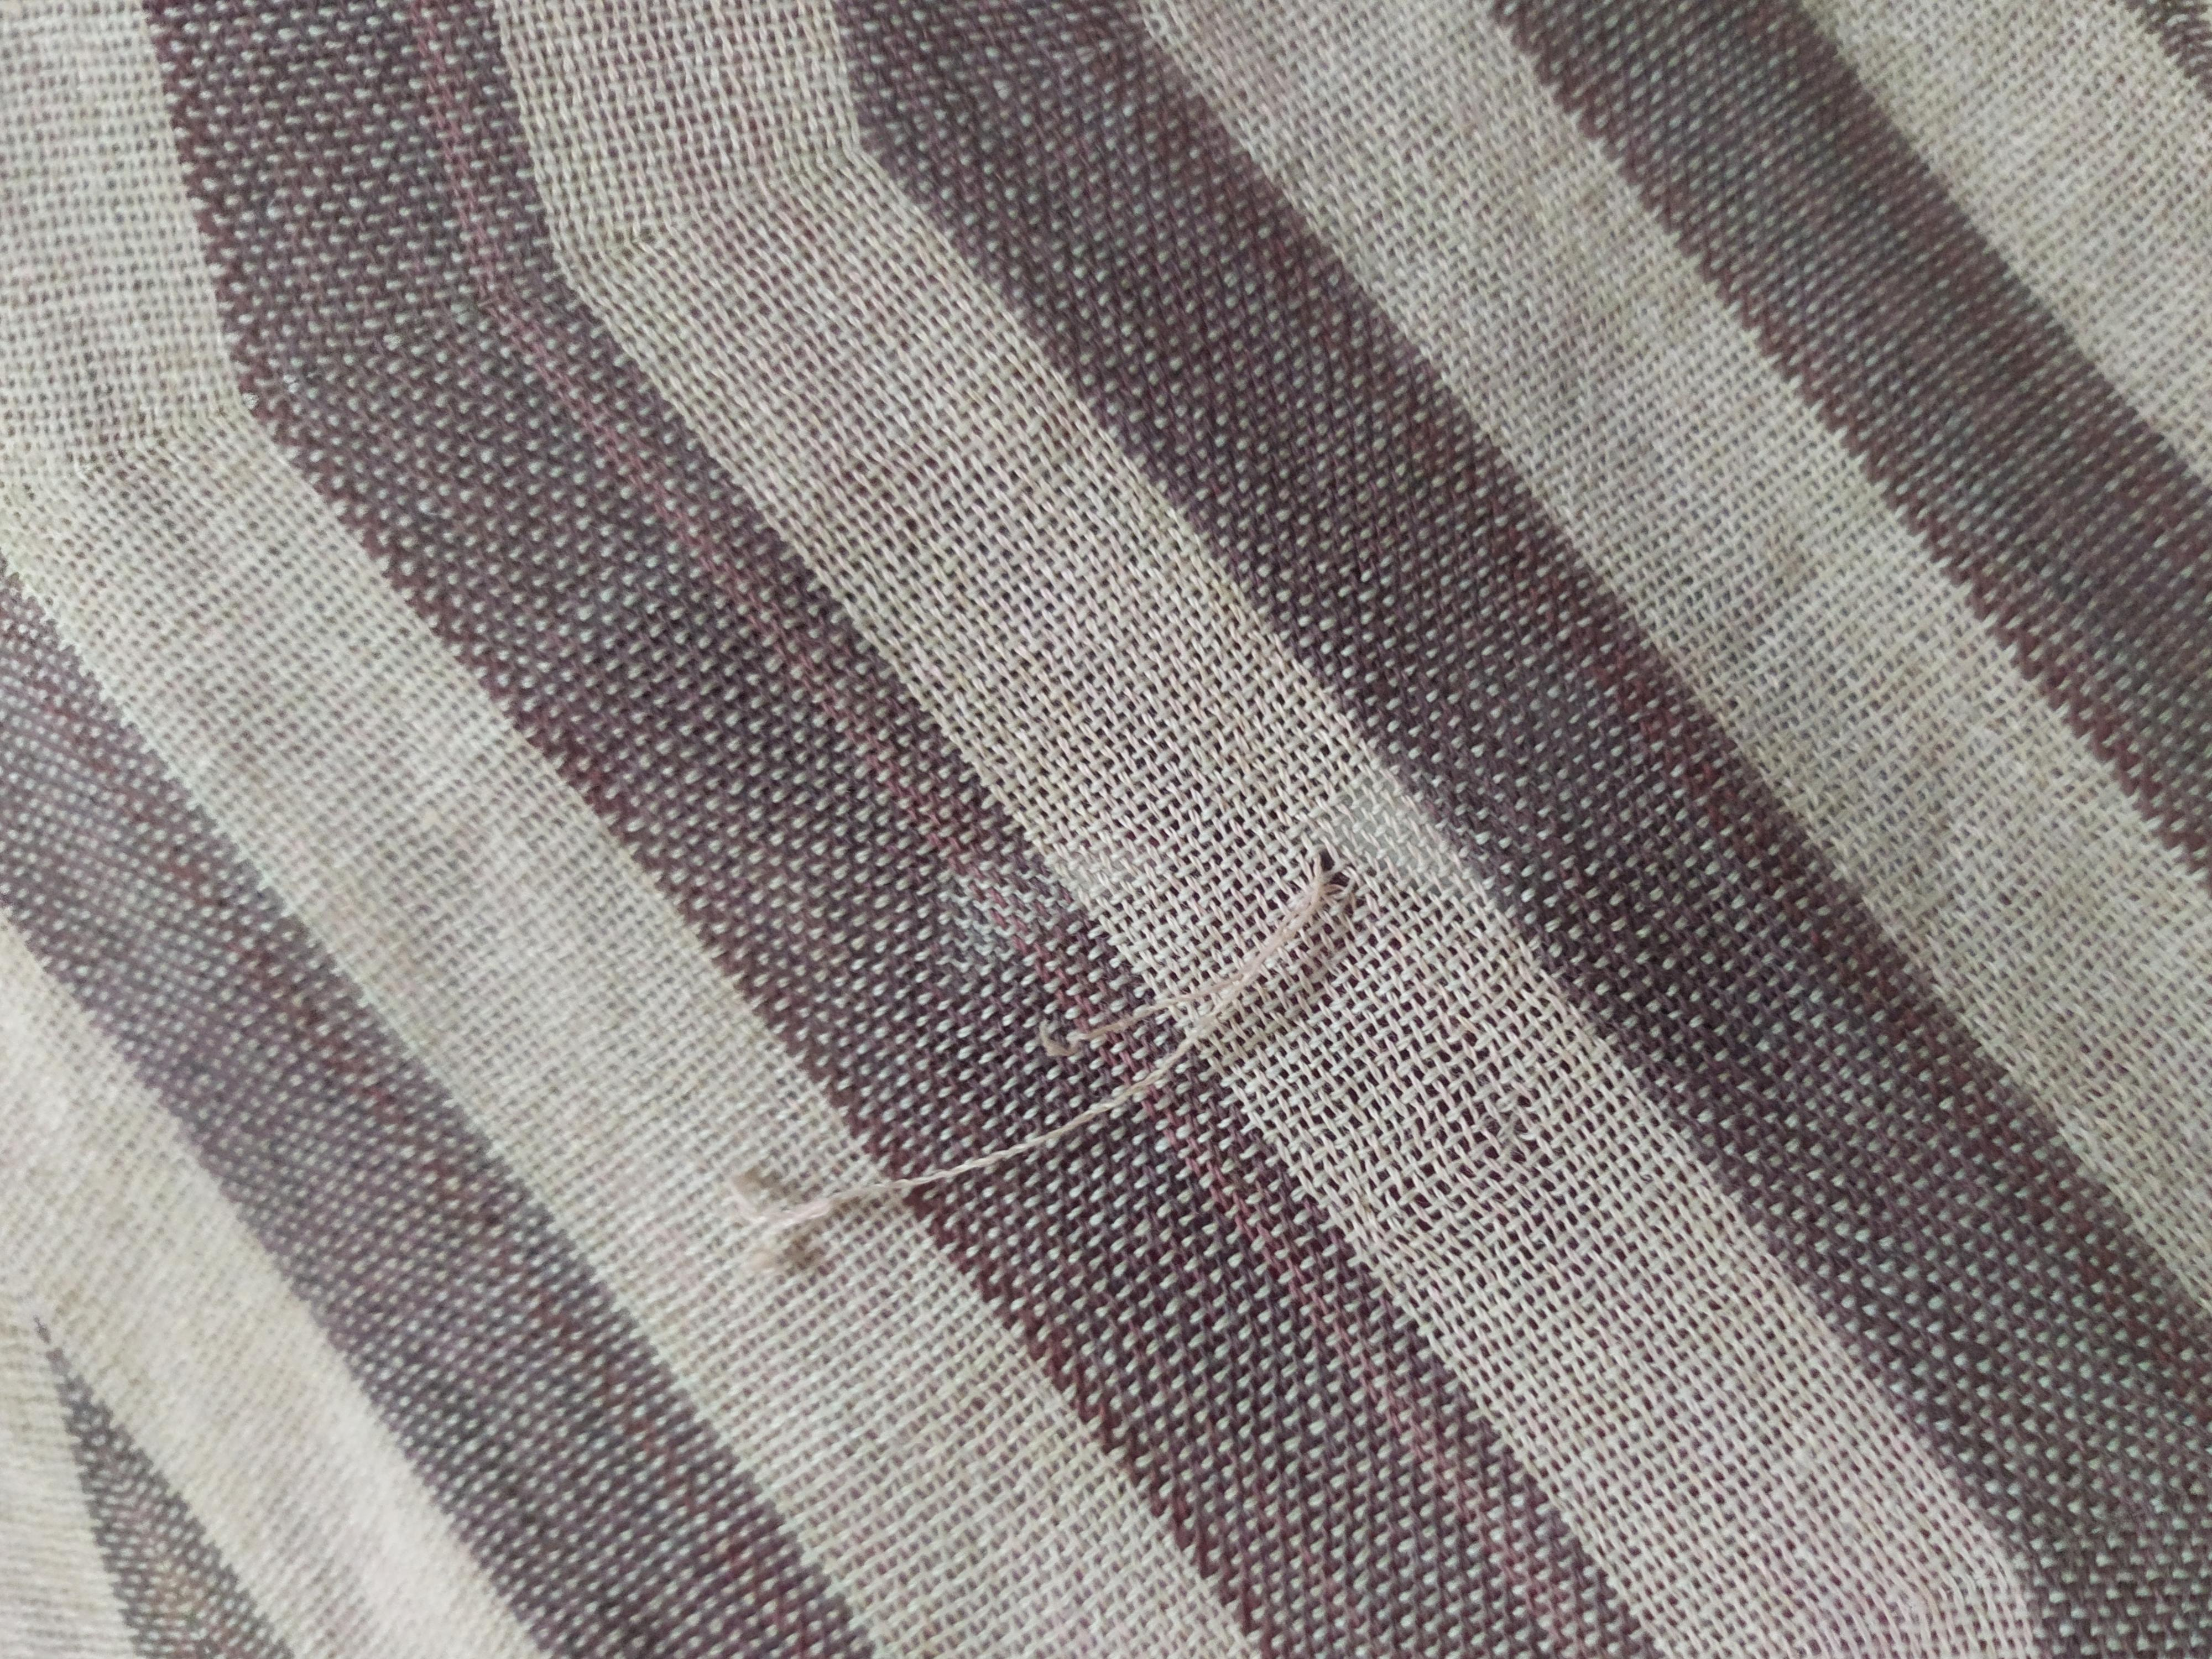snag: (719, 819, 1421, 1303)
